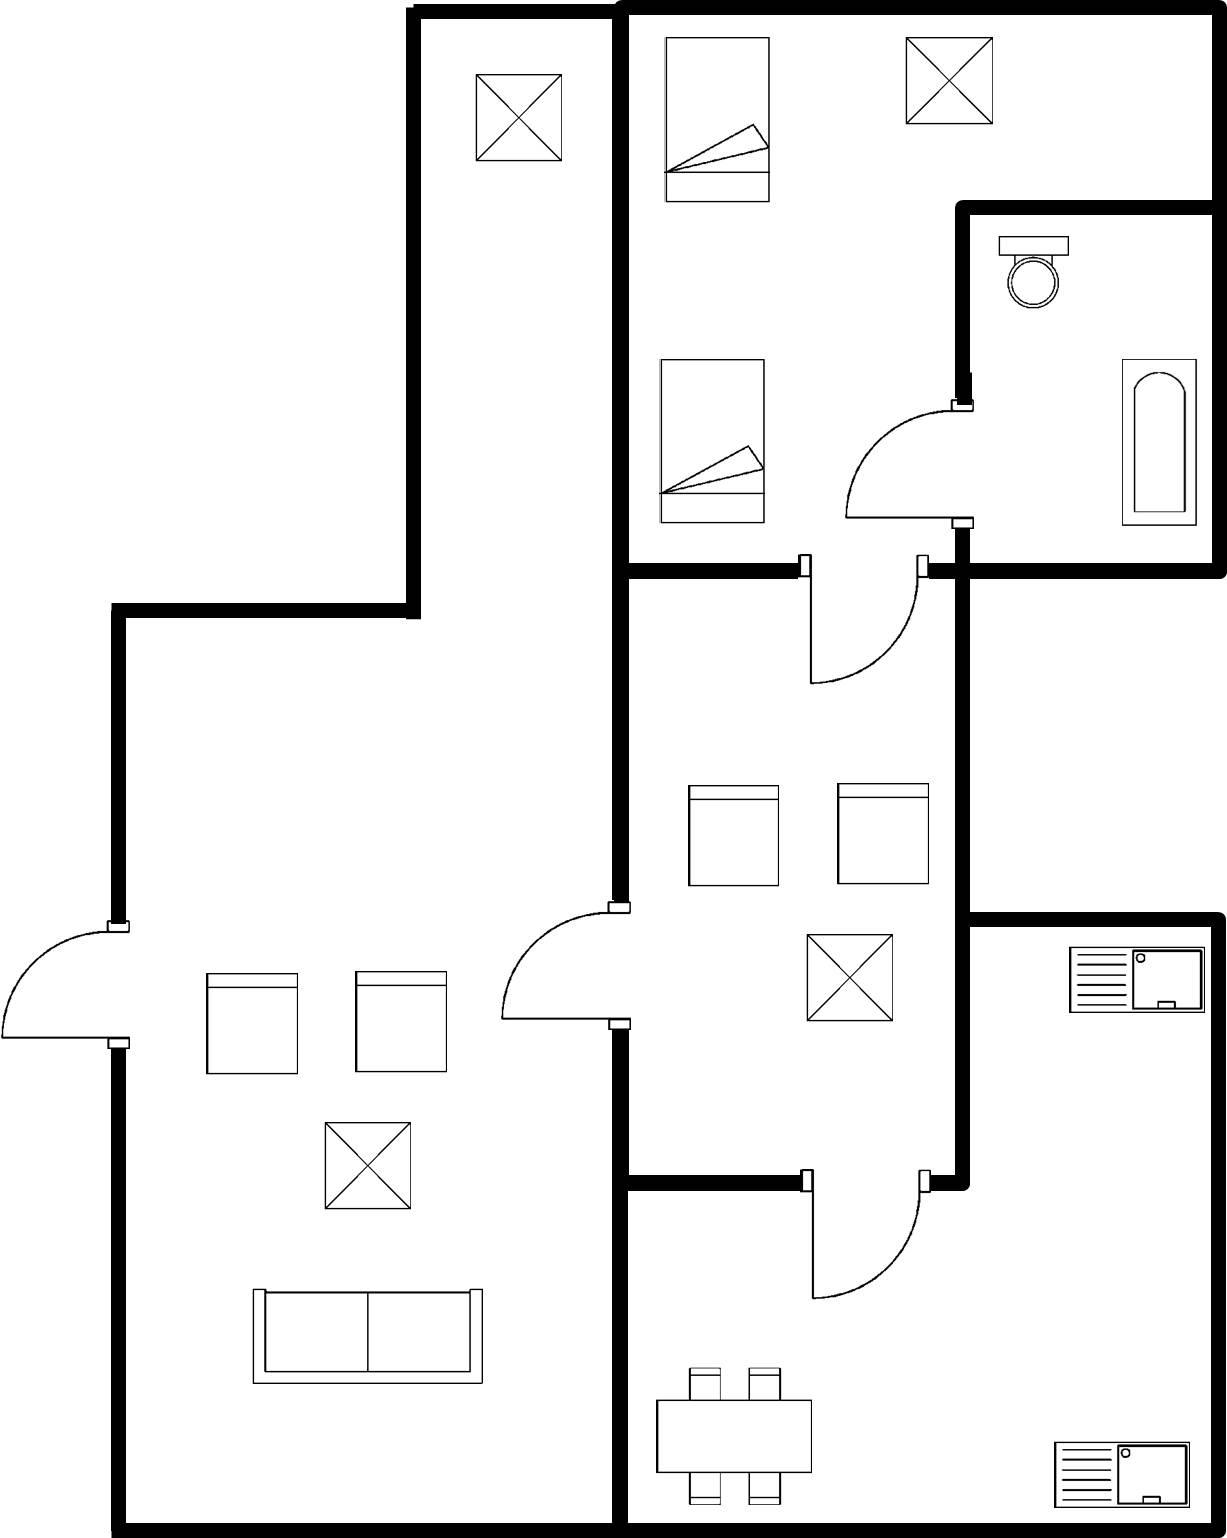bed: (646, 349, 778, 536), (655, 25, 779, 213)
dining_table: (649, 1357, 824, 1509)
sink: (1055, 934, 1213, 1024), (1042, 1434, 1199, 1513)
sofa: (242, 1275, 495, 1393)
toilet: (988, 225, 1077, 319)
tub: (1109, 343, 1207, 533)
